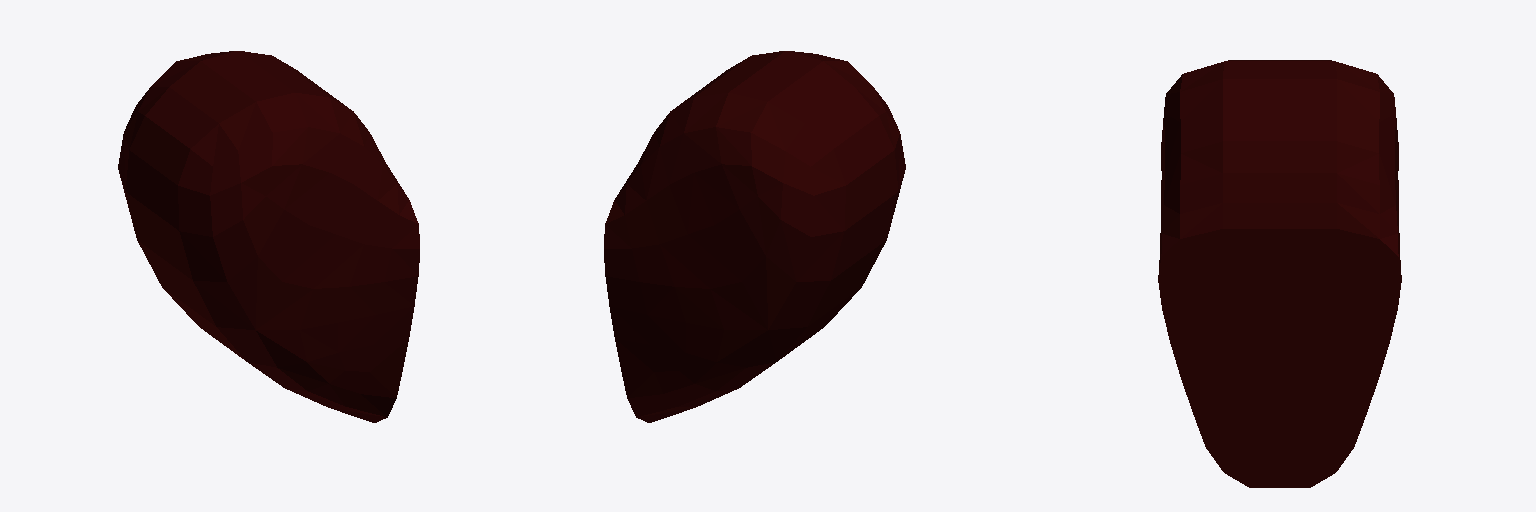
The model's file is Heart_Half.obj.
3 views of the same model, side by side, from view 1: azimuth 30°, elevation 25°; view 2: azimuth 150°, elevation 25°; view 3: azimuth 270°, elevation 25° (orthographic).
Parts seen in each view (by area): view 1: Heart_Half_Cube.007; view 2: Heart_Half_Cube.007; view 3: Heart_Half_Cube.007.
Part boxes in pixels (bbox=[...]): Heart_Half_Cube.007: bbox=[118, 51, 419, 422]; Heart_Half_Cube.007: bbox=[604, 51, 905, 422]; Heart_Half_Cube.007: bbox=[1158, 60, 1401, 487].
Size of the model in its own units: 0.7401 by 1.24 by 0.7542.